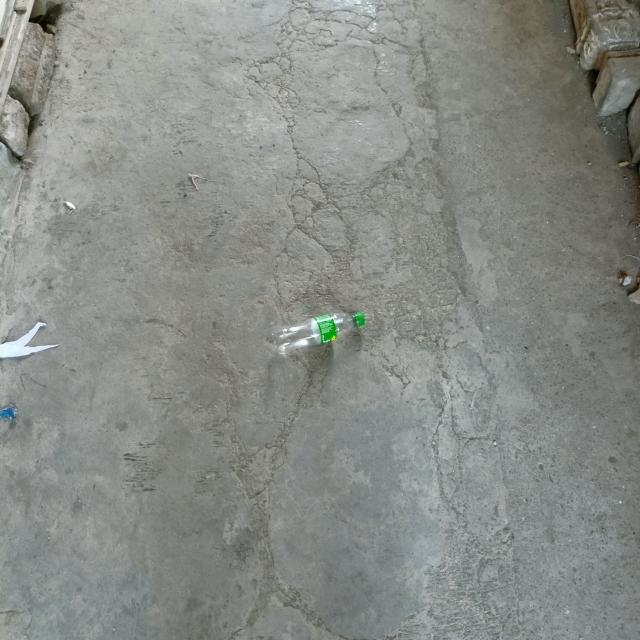Bottle: (272, 312, 366, 354)
